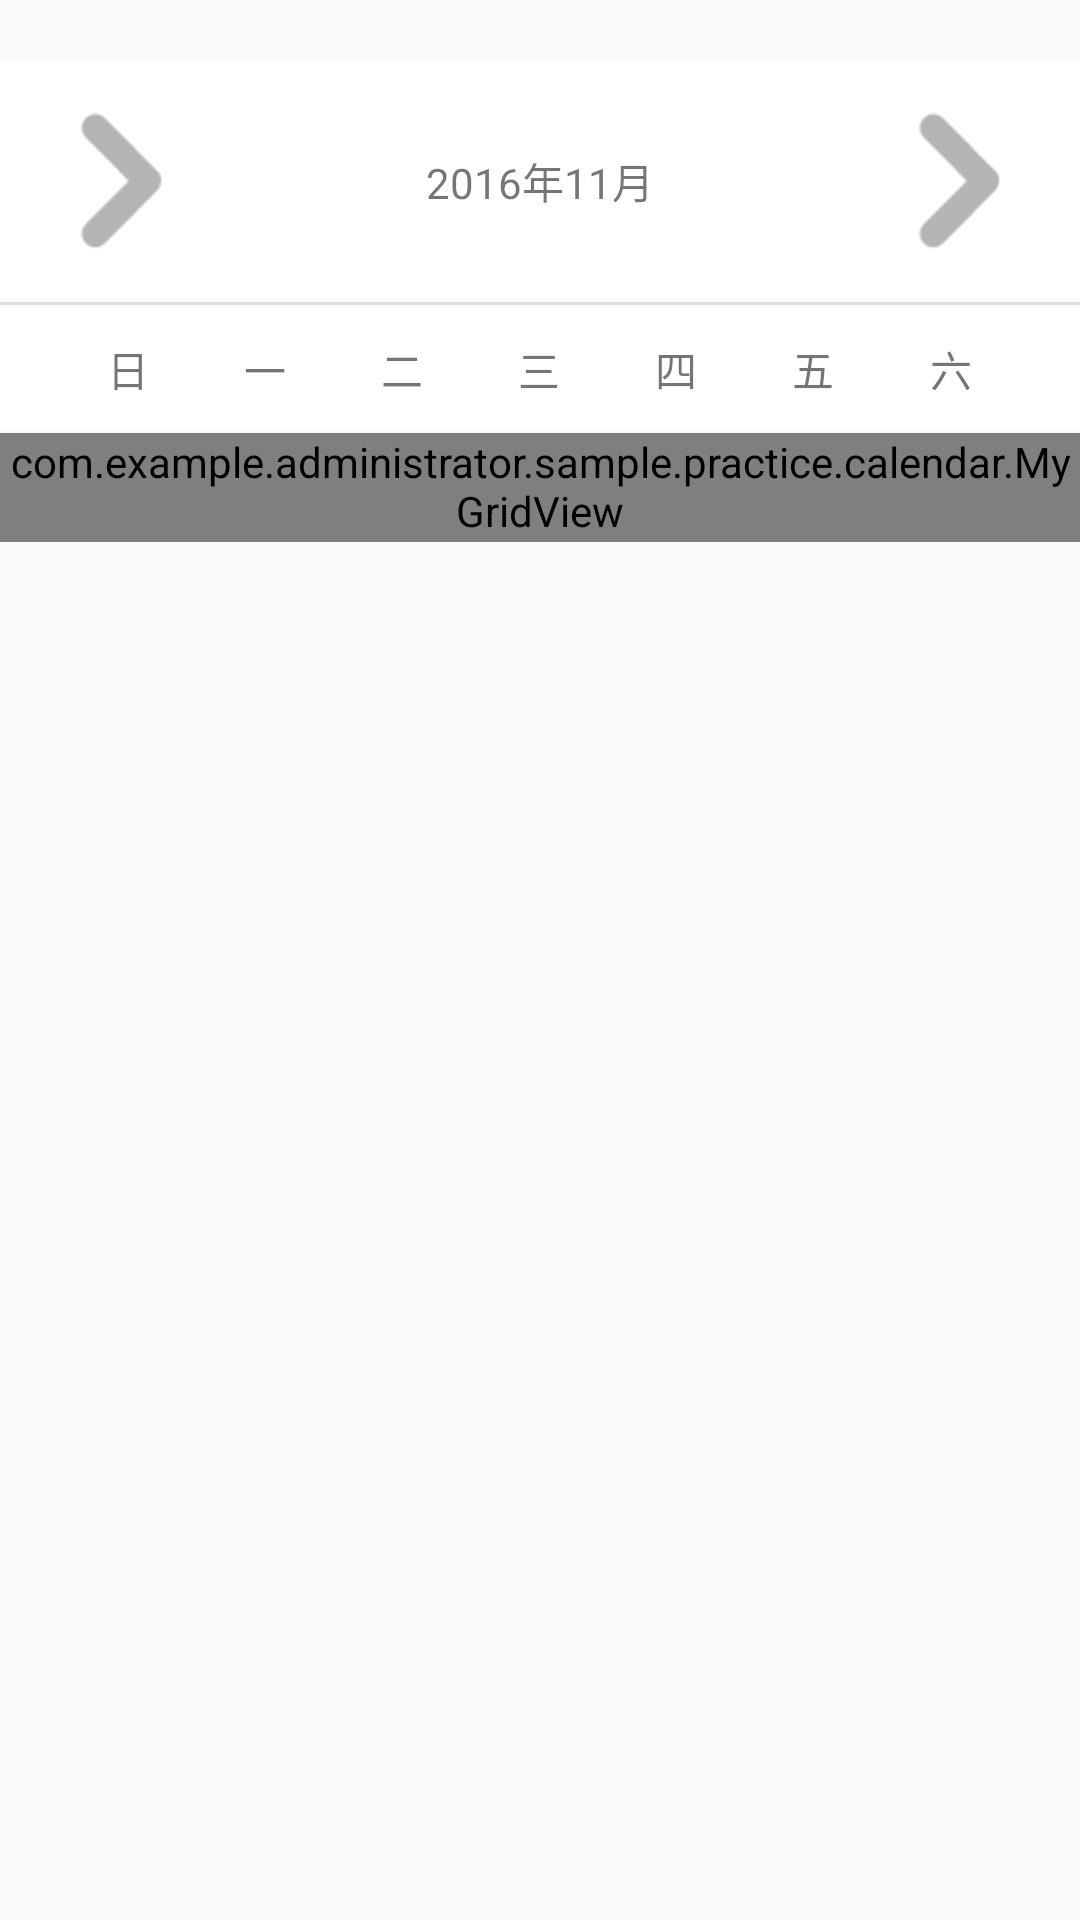

Where to tap for icons on this 1080px x 1920px app screen, as [x,y]:
right: [121,181], [959,181]
